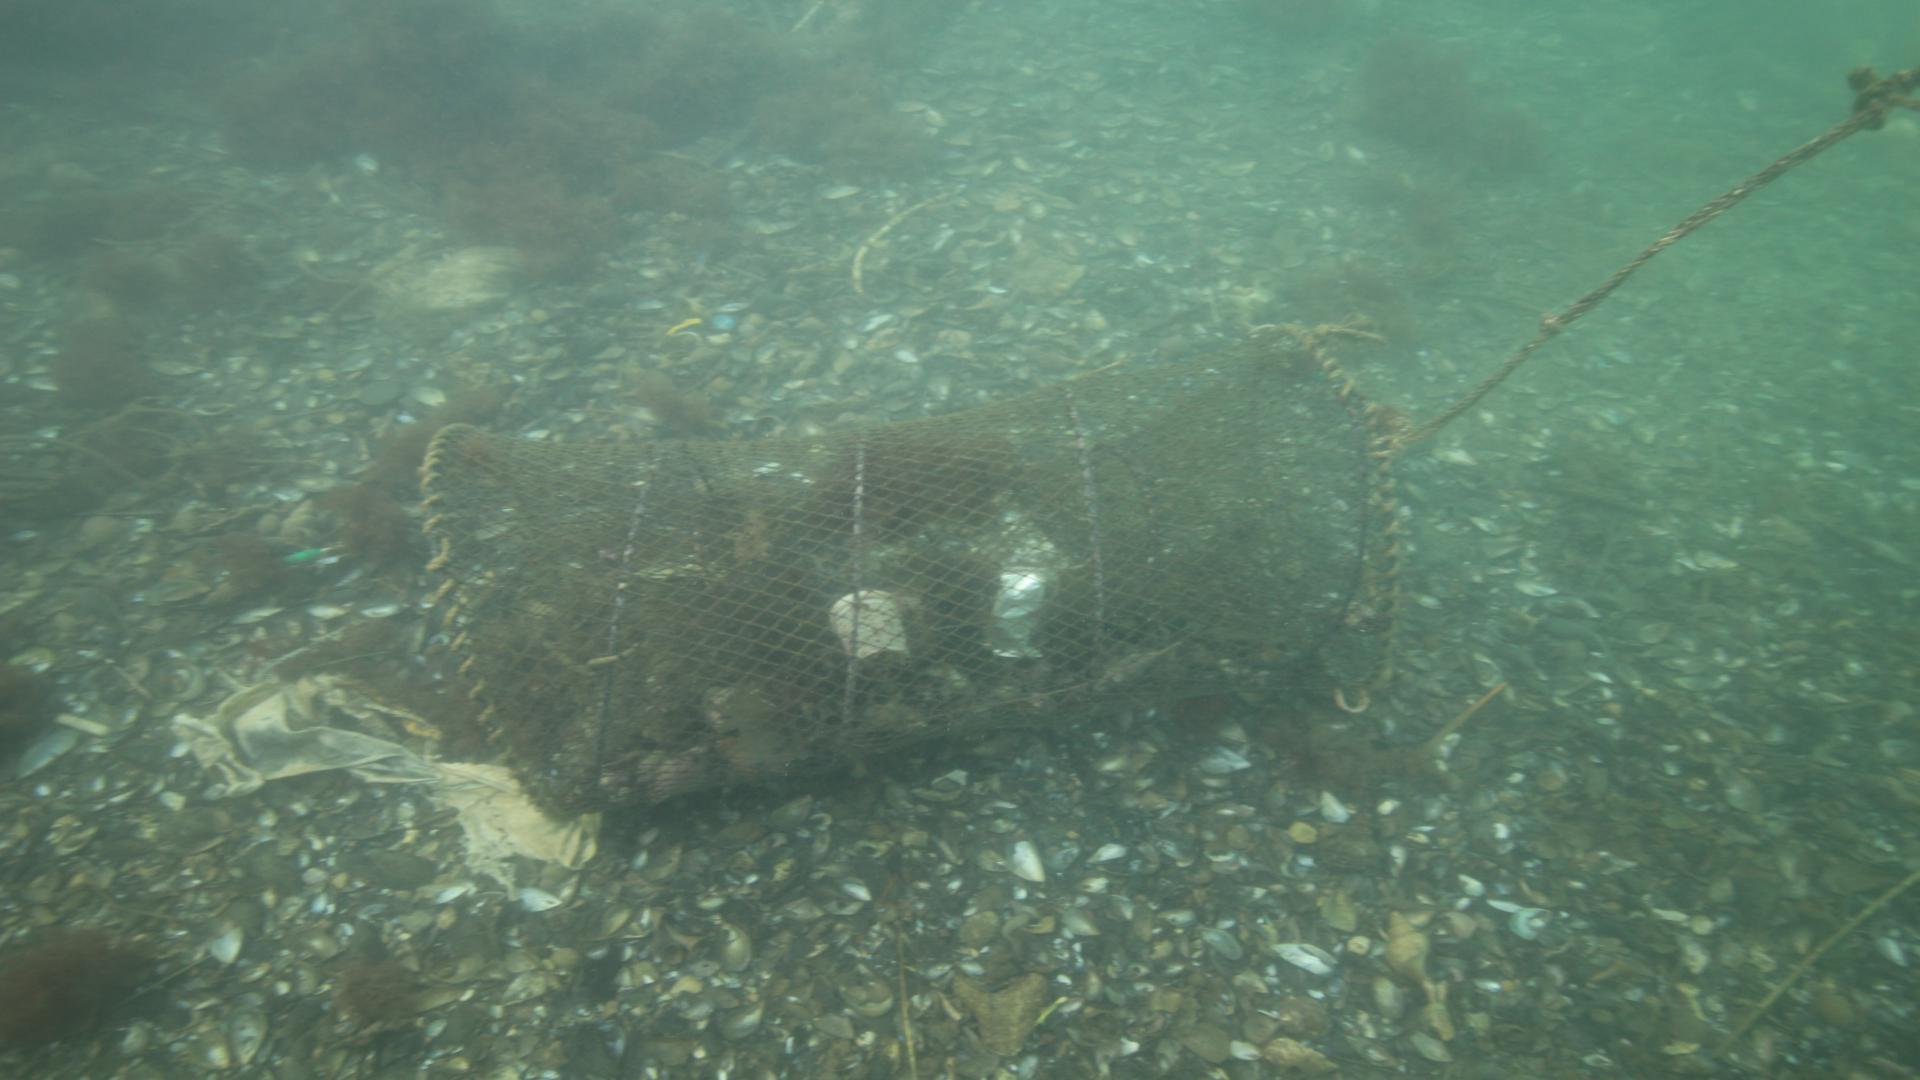rope: (1395, 67, 1919, 458)
spring fish trap: (417, 319, 1400, 820)
